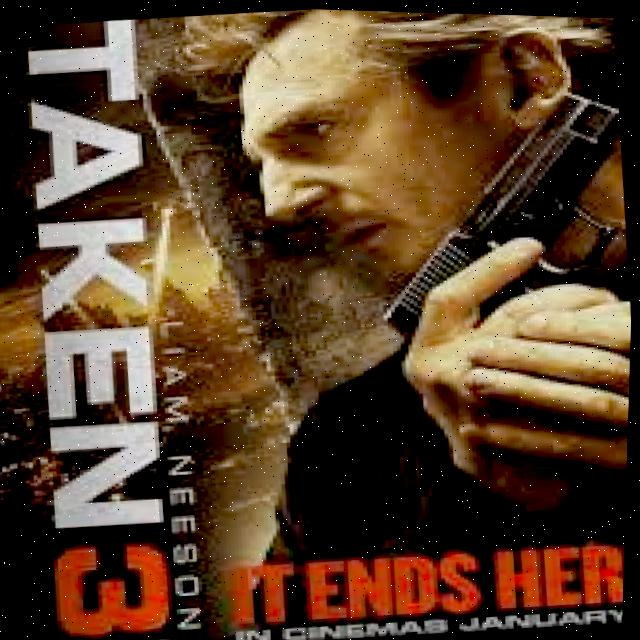pistol: (366, 77, 638, 339)
